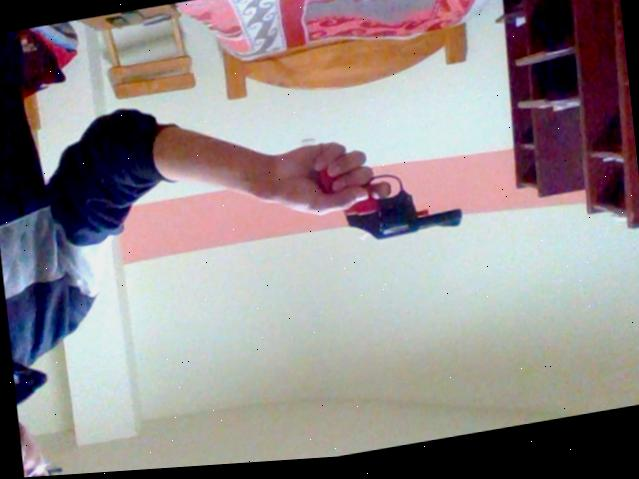pistol: (289, 108, 479, 283)
